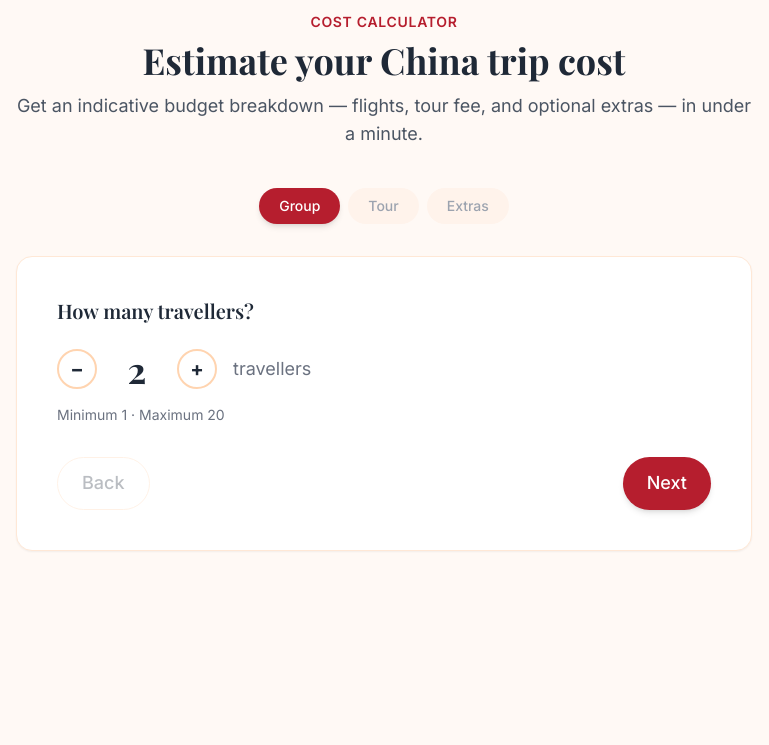
Test: CostCalculator component › advances to step 2 (tour selection) on Next
Click the button "Next".
click(667, 483)  # box [623, 457, 711, 510]
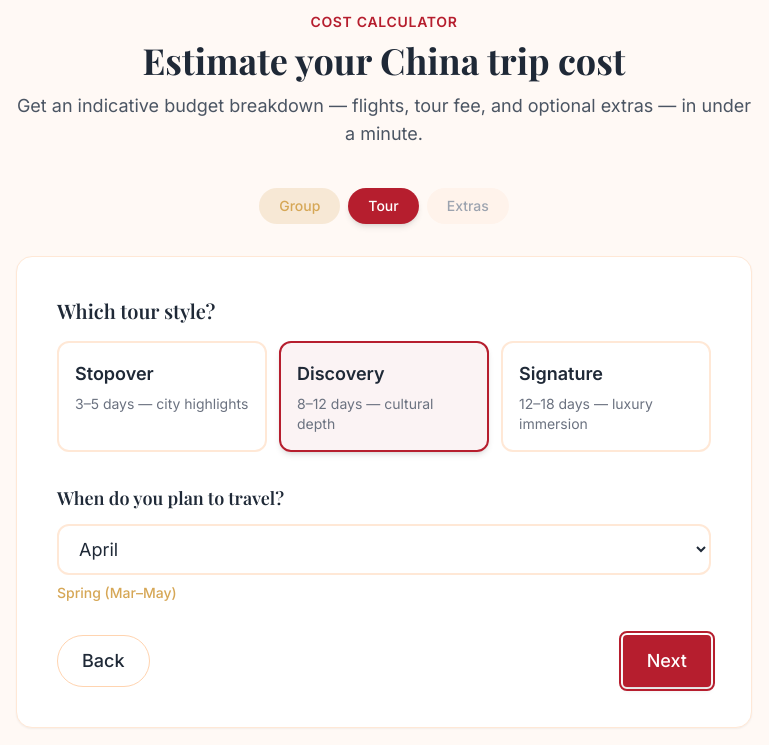
Now the text "Which tour style?" is shown, box [57, 297, 215, 325]
